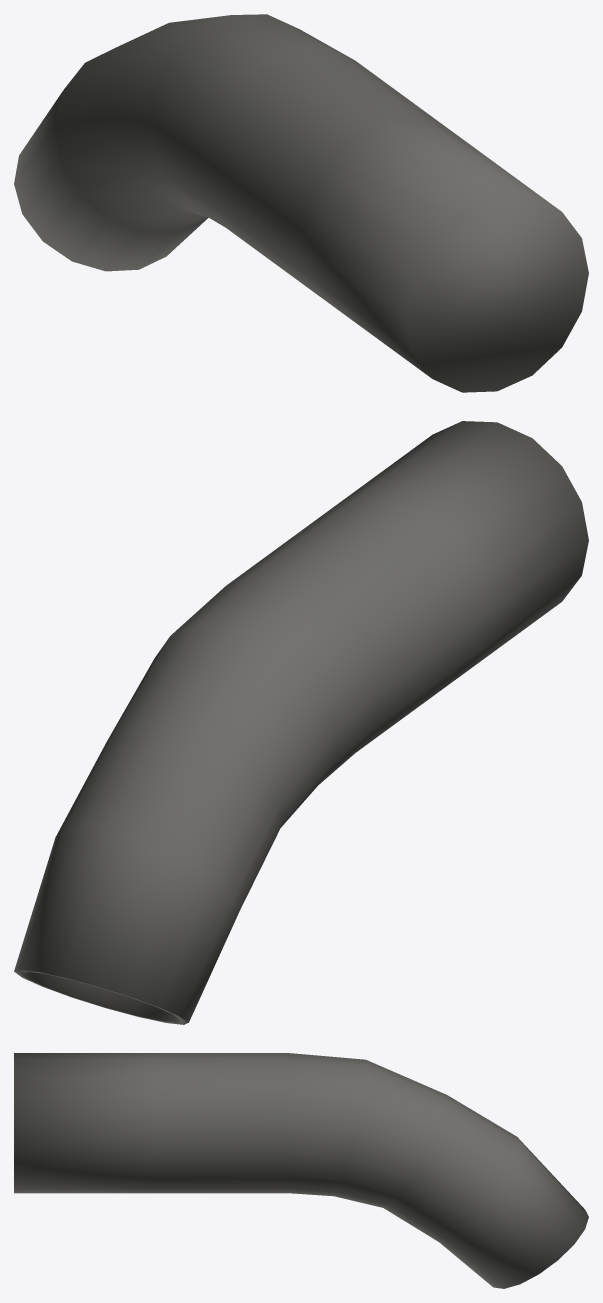
The model's file is SM_Pipe.fbx.
3 views of the same model, one above another, from view 1: azimuth 30°, elevation 25°; view 2: azimuth 150°, elevation 25°; view 3: azimuth 270°, elevation 25° (orthographic). The views are drawn at different scales.
Visible parts, largest first — view 1: SM_Pipe; view 2: SM_Pipe; view 3: SM_Pipe.
Part boxes in pixels (x1=…): SM_Pipe: x1=14, y1=14, x2=588, y2=392; SM_Pipe: x1=14, y1=421, x2=588, y2=1024; SM_Pipe: x1=14, y1=1053, x2=588, y2=1288.
Bounding box in the file's own units: 0.0535 × 0.0928 × 0.2191.
